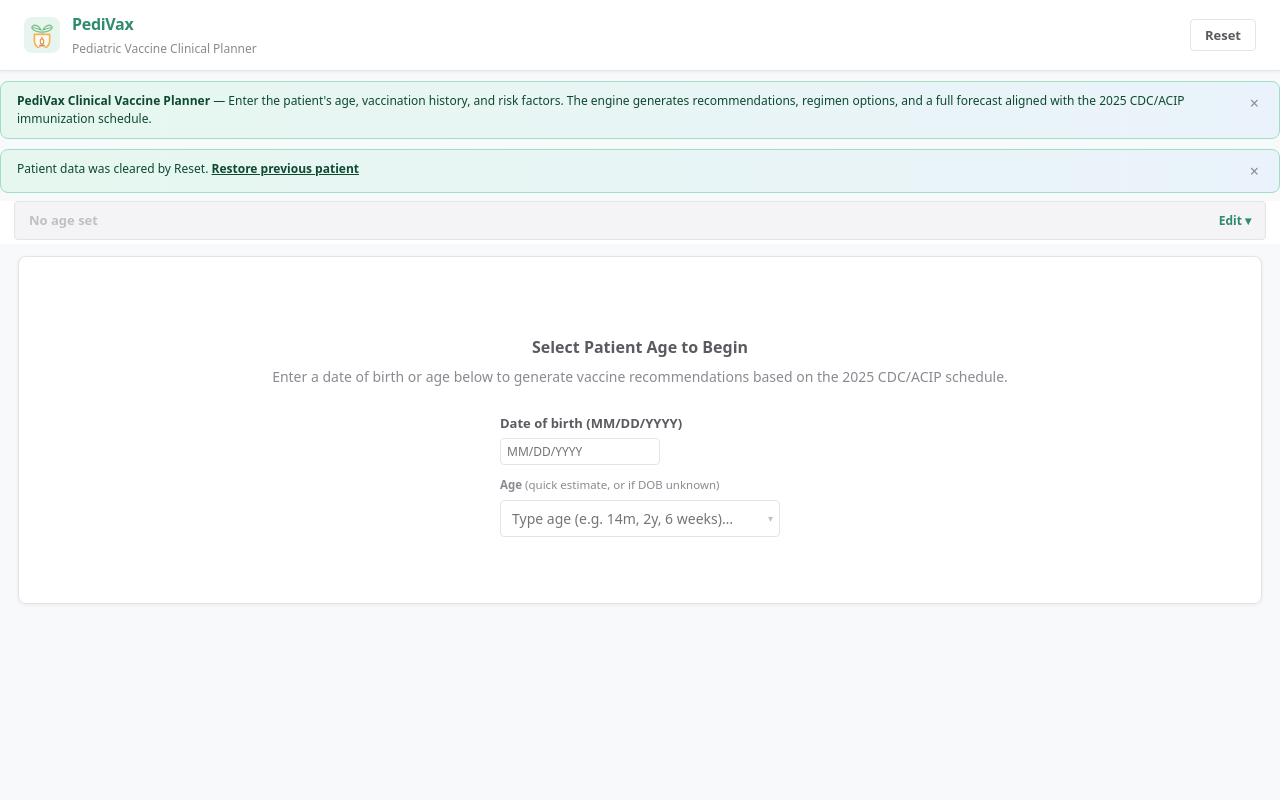
Test: App — reset-snapshot restore banner › restoring brings back the snapshotted patient and clears sessionStorage
This screenshot has width=1280, height=800.
Click the button "Restore previous patient" at (285, 169), box [212,160,359,178]
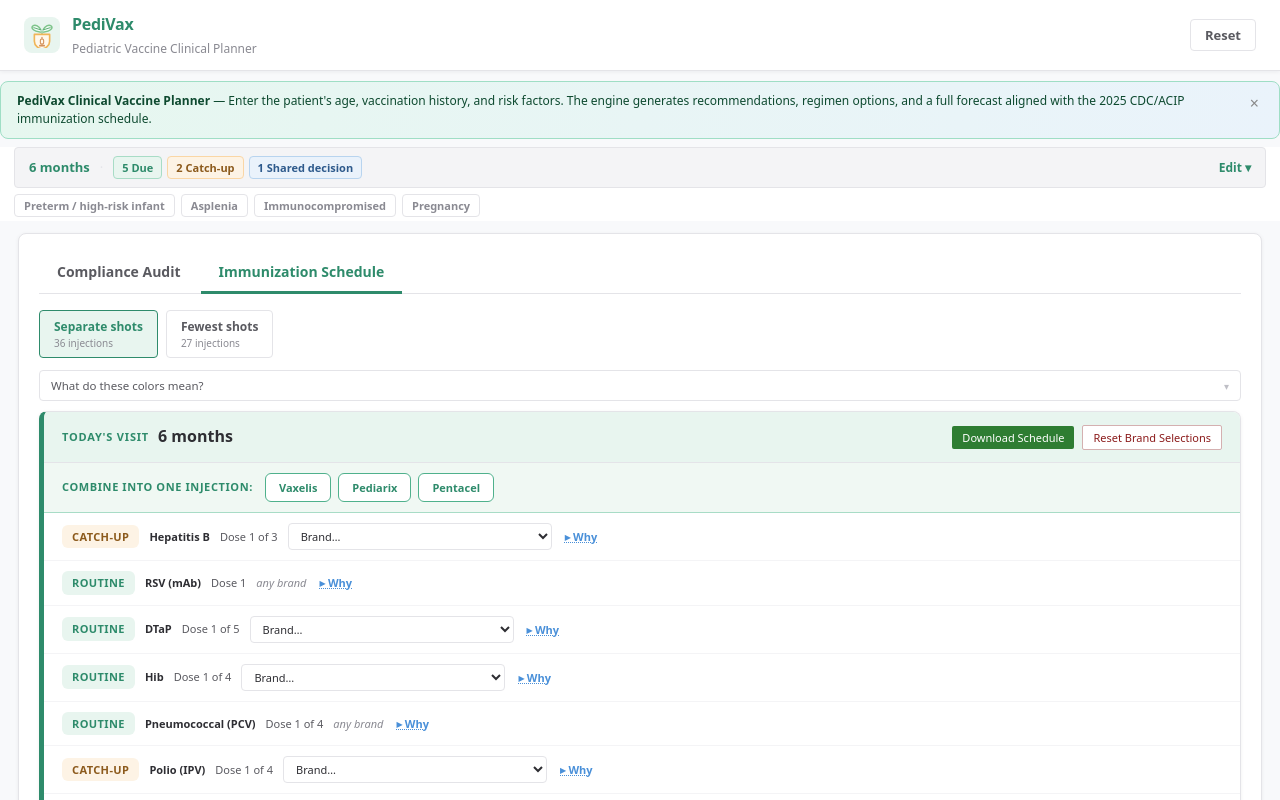
Now the heading "Select Patient Age to Begin" is gone
Now the button "Restore previous patient" is gone
